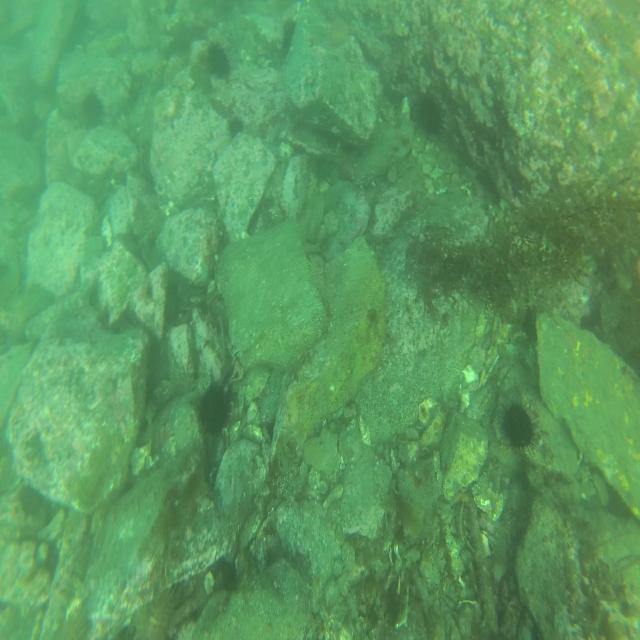echinus: (498, 394, 540, 461), (195, 380, 231, 436), (416, 88, 444, 130), (78, 94, 105, 128), (205, 40, 230, 76)
